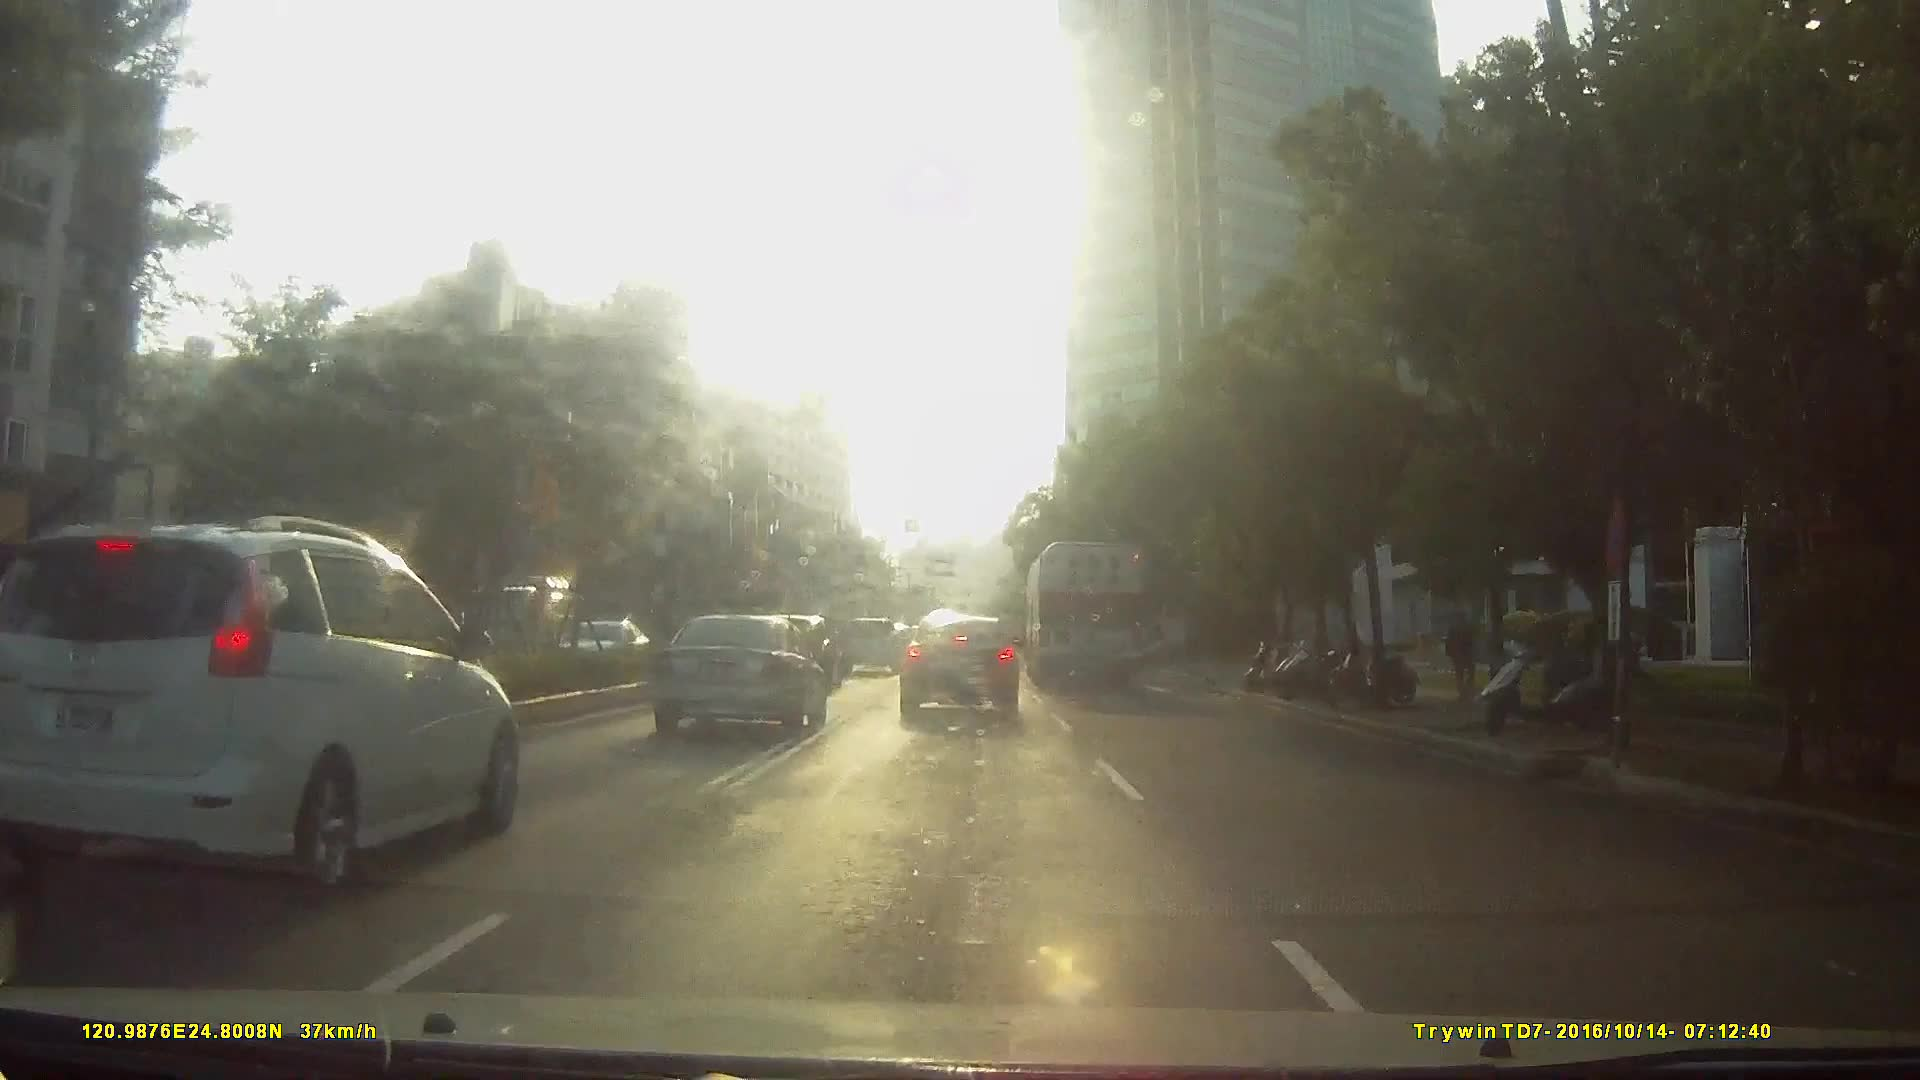pedestrian: (1446, 611, 1485, 709)
vehicle: (39, 497, 518, 916), (250, 556, 684, 868), (643, 610, 824, 740), (1022, 536, 1146, 692), (895, 614, 1023, 717), (455, 567, 563, 658), (556, 618, 653, 673), (833, 614, 900, 671)
